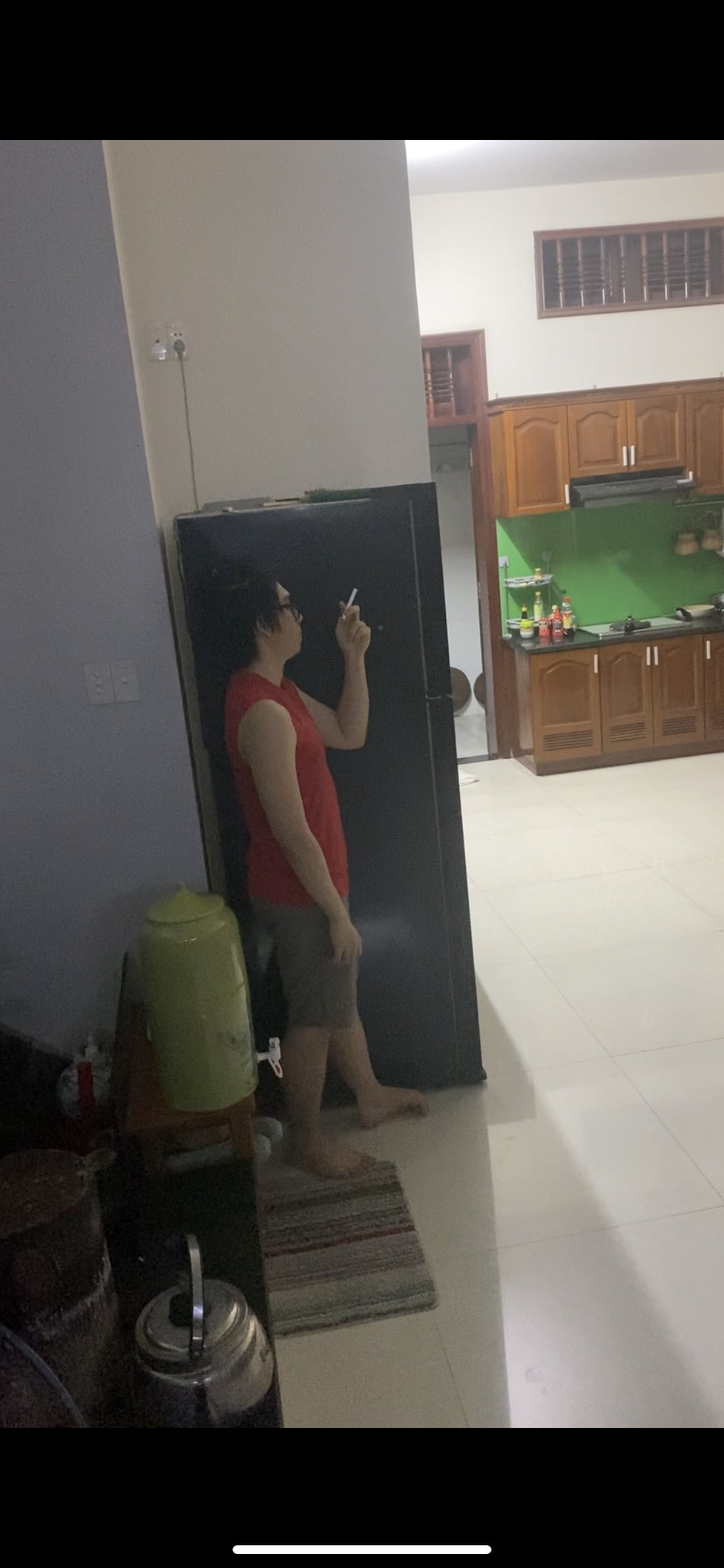cigarette: (345, 584, 361, 609)
person: (220, 542, 429, 1140)
